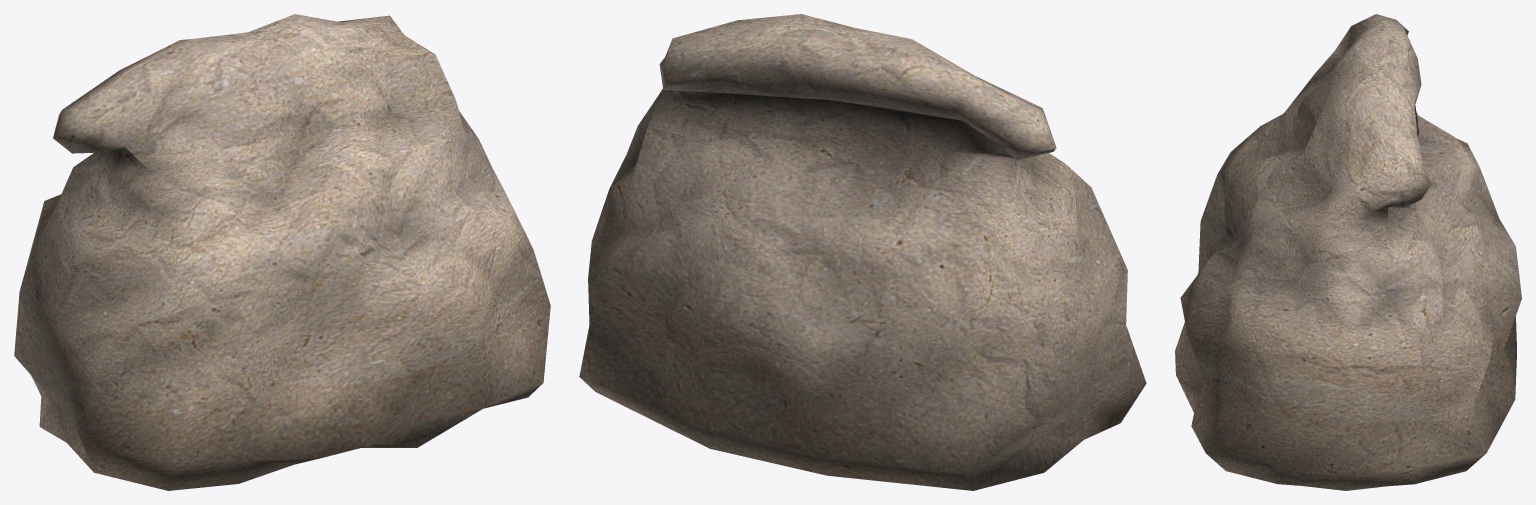
File: burger_paper_bag.dae
3 views of the same model, side by side, from view 1: azimuth 30°, elevation 25°; view 2: azimuth 150°, elevation 25°; view 3: azimuth 270°, elevation 25° (orthographic). The views are drawn at different scales.
Visible parts, largest first — view 1: paper_bag; view 2: paper_bag; view 3: paper_bag.
Part boxes in pixels (<box>): paper_bag: <box>14,14,550,490</box>; paper_bag: <box>579,14,1146,490</box>; paper_bag: <box>1175,14,1521,490</box>.
Bounding box in the file's own units: 0.2978 × 0.2287 × 0.206.
